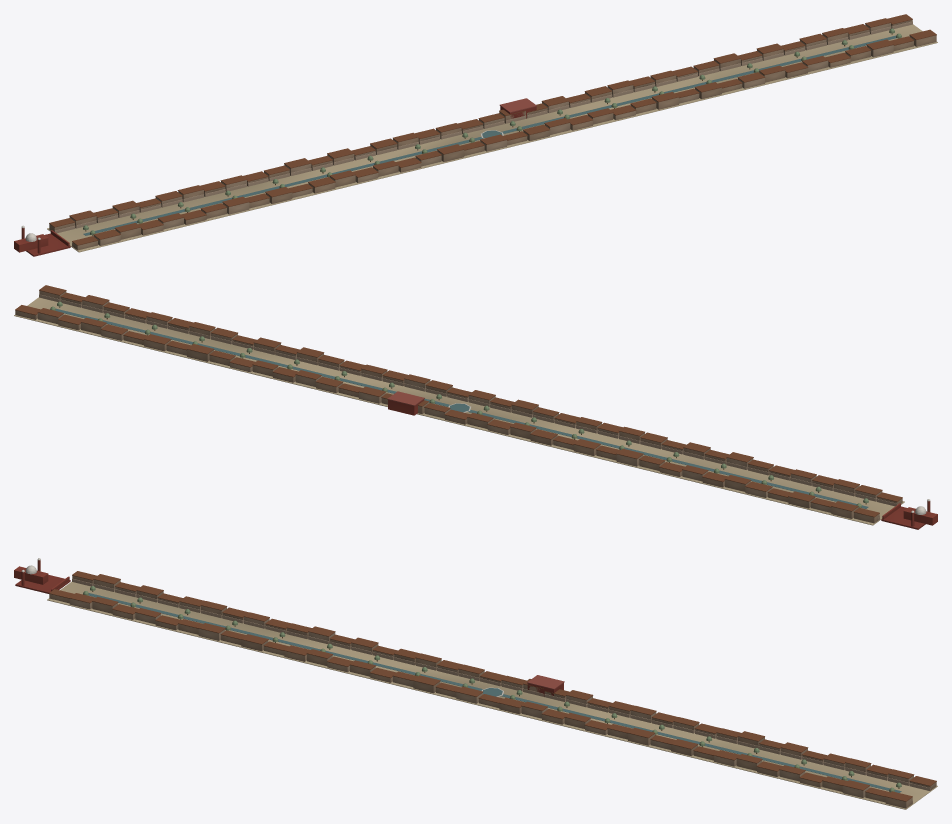
Rendered from chandni-chowk.glb.
3 views of the same model, one above another, from view 1: azimuth 30°, elevation 25°; view 2: azimuth 150°, elevation 25°; view 3: azimuth 330°, elevation 25° (orthographic).
Visible parts, largest first — view 1: p1_shops, p0_street, p2_mosque; view 2: p1_shops, p0_street, p2_mosque; view 3: p1_shops, p0_street, p2_mosque.
Part boxes in pixels (bbox=[...]): p1_shops: bbox=[49, 14, 936, 250]; p0_street: bbox=[47, 24, 937, 252]; p2_mosque: bbox=[14, 28, 901, 256]; p1_shops: bbox=[15, 285, 902, 523]; p0_street: bbox=[14, 297, 904, 525]; p2_mosque: bbox=[50, 301, 937, 529]; p1_shops: bbox=[49, 571, 936, 808]; p0_street: bbox=[47, 581, 937, 809]; p2_mosque: bbox=[14, 558, 901, 792].
Size of the model in its own units: 1370 by 24.18 by 91.53.
